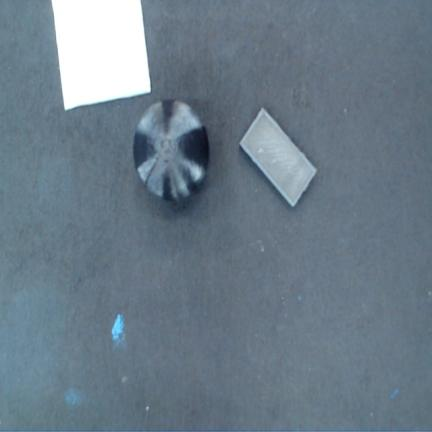Esfera: (134, 100, 209, 201)
Paralelepipedo: (240, 107, 318, 209)
Piramide: (51, 0, 151, 110)
